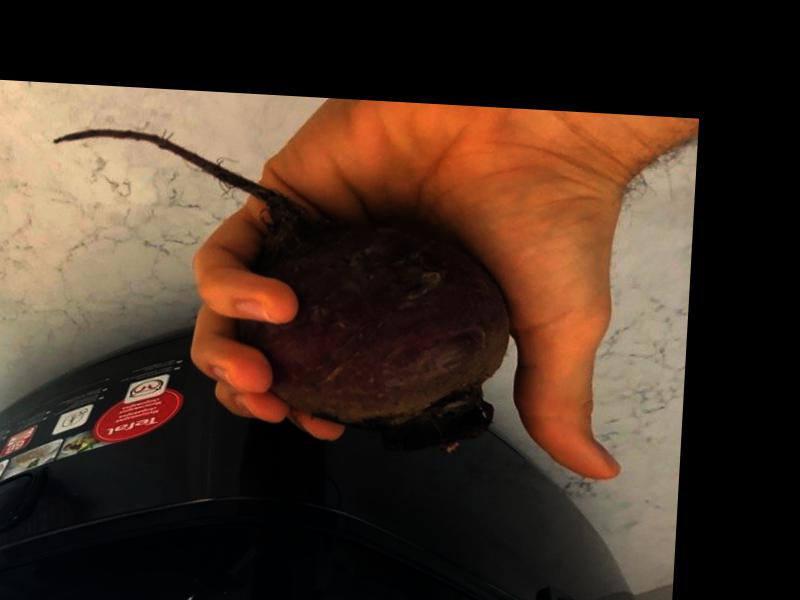Beet: (36, 125, 518, 456)
